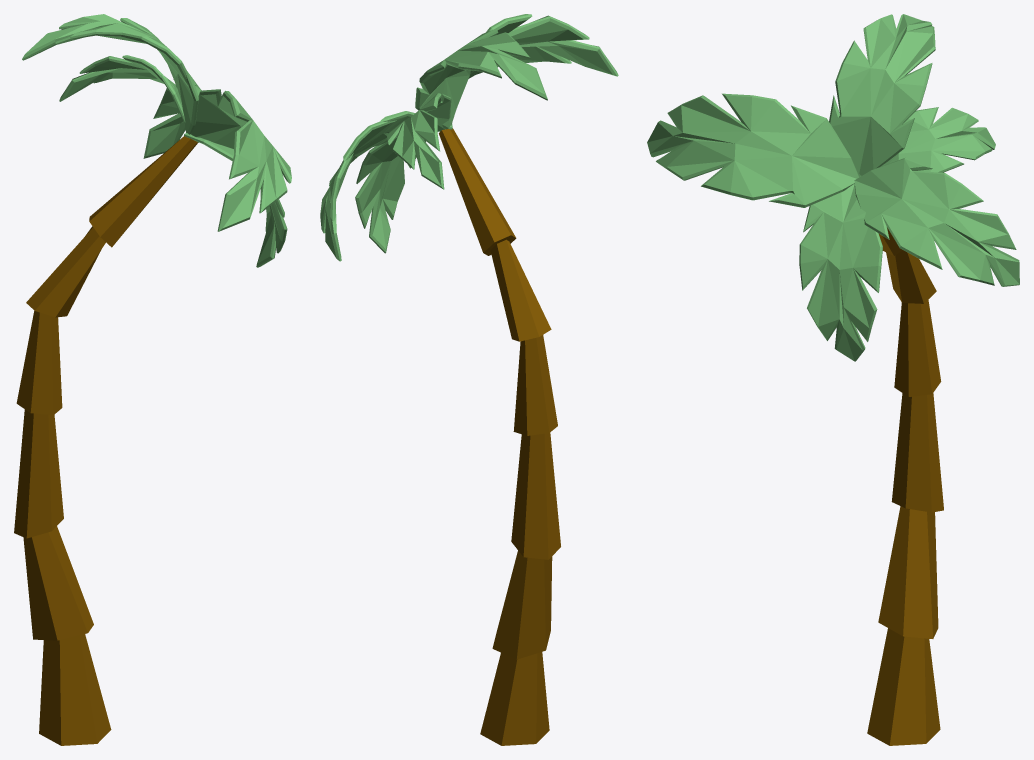
The model's file is PalmTree2.fbx.
3 renders of one model, left to right at view 1: azimuth 30°, elevation 25°; view 2: azimuth 150°, elevation 25°; view 3: azimuth 270°, elevation 25°, orthographic. The views are drawn at different scales.
Visible parts, largest first — view 1: PalmTree2; view 2: PalmTree2; view 3: PalmTree2.
Part boxes in pixels (<box>): PalmTree2: <box>14,14,291,745</box>; PalmTree2: <box>320,14,618,745</box>; PalmTree2: <box>647,14,1019,745</box>.
Bounding box in the file's own units: 60.05 × 177 × 83.47.
